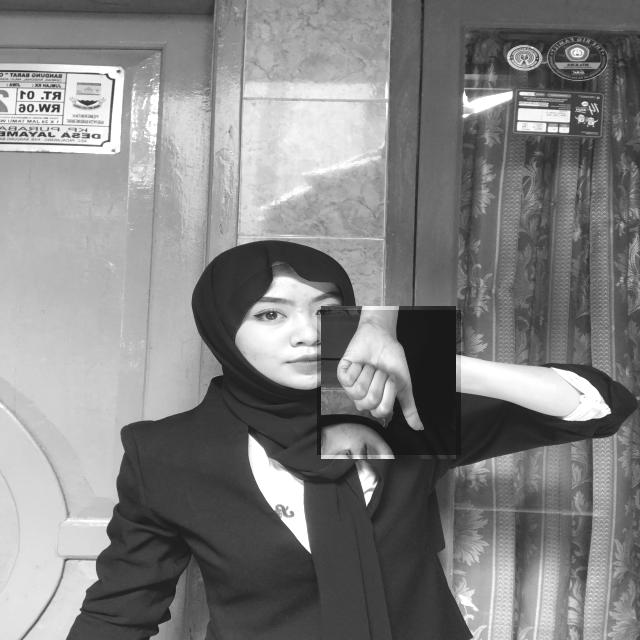sedih: (317, 310, 461, 455)
